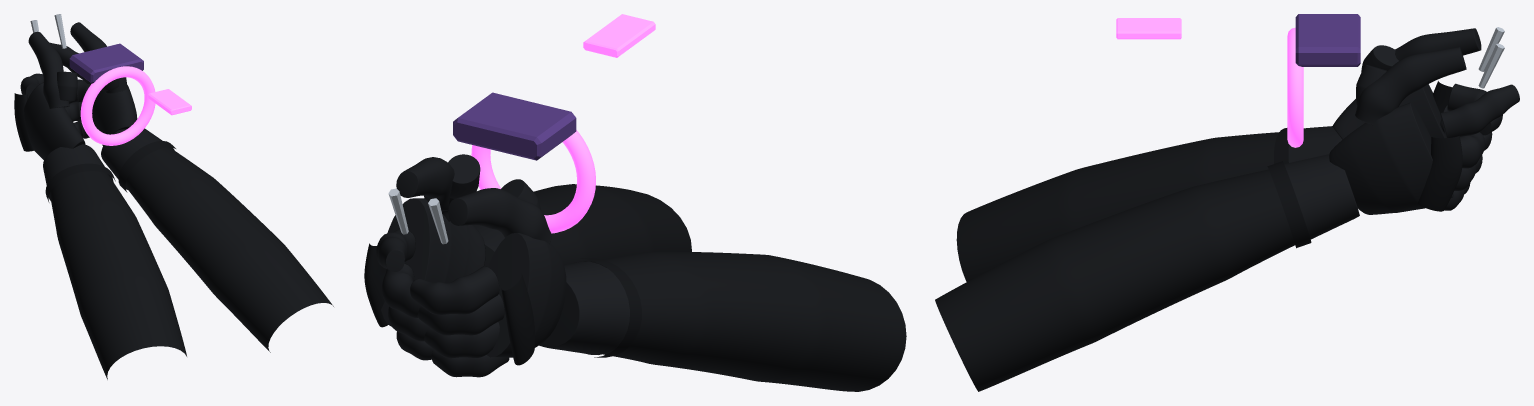
The model's file is hands_tempest_pistol.glb.
The picture shows the model from 3 angles, left to right: view 1: azimuth 30°, elevation 25°; view 2: azimuth 150°, elevation 25°; view 3: azimuth 270°, elevation 25°; orthographic projection. The views are drawn at different scales.
Parts seen in each view (by area): view 1: hand_r_forearm, hand_l_forearm, hand_l_palm, hand_r_cap_ring, hand_r_cuff_plate, hand_r_palm, hand_l_thumb, hand_l_cuff, hand_r_cuff, hand_r_thumb, hand_r_lamp, hand_r_cuff_strap (+5 smaller); view 2: hand_l_forearm, hand_r_forearm, hand_l_cuff, hand_r_cuff_plate, hand_l_palm, hand_r_palm, hand_l_thumb, hand_r_cap_ring, hand_l_index, hand_r_thumb, hand_l_knuckle_panel, hand_l_middle (+14 smaller); view 3: hand_r_forearm, hand_l_forearm, hand_r_palm, hand_r_cuff, hand_r_thumb, hand_r_cuff_plate, hand_r_knuckle_panel, hand_r_index, hand_l_palm, hand_r_cap_ring, hand_l_thumb, hand_r_cuff_strap (+6 smaller).
Part boxes in pixels (bbox=[...]): hand_r_forearm: bbox=[125, 147, 333, 352]; hand_l_forearm: bbox=[50, 171, 186, 379]; hand_l_palm: bbox=[24, 82, 85, 159]; hand_r_cap_ring: bbox=[80, 66, 155, 145]; hand_r_cuff_plate: bbox=[69, 43, 143, 83]; hand_r_palm: bbox=[90, 83, 137, 145]; hand_l_thumb: bbox=[28, 31, 69, 108]; hand_l_cuff: bbox=[43, 144, 113, 200]; hand_r_cuff: bbox=[101, 128, 174, 189]; hand_r_thumb: bbox=[70, 22, 127, 93]; hand_r_lamp: bbox=[148, 89, 191, 115]; hand_r_cuff_strap: bbox=[118, 141, 175, 192]; hand_l_forearm: bbox=[593, 251, 906, 391]; hand_r_forearm: bbox=[533, 184, 691, 265]; hand_l_cuff: bbox=[539, 261, 629, 354]; hand_r_cuff_plate: bbox=[453, 92, 576, 160]; hand_l_palm: bbox=[486, 233, 566, 357]; hand_r_palm: bbox=[381, 198, 485, 326]; hand_l_thumb: bbox=[448, 188, 551, 244]; hand_r_cap_ring: bbox=[471, 130, 595, 233]; hand_l_index: bbox=[410, 266, 499, 314]; hand_r_thumb: bbox=[396, 157, 454, 221]; hand_l_knuckle_panel: bbox=[501, 274, 534, 365]; hand_l_middle: bbox=[417, 294, 504, 335]; hand_r_forearm: bbox=[935, 169, 1295, 391]; hand_l_forearm: bbox=[956, 132, 1279, 281]; hand_r_palm: bbox=[1329, 102, 1453, 214]; hand_r_cuff: bbox=[1284, 154, 1359, 239]; hand_r_thumb: bbox=[1355, 47, 1466, 125]; hand_r_cuff_plate: bbox=[1295, 14, 1360, 66]; hand_r_knuckle_panel: bbox=[1418, 136, 1462, 211]; hand_r_index: bbox=[1440, 84, 1519, 137]; hand_l_palm: bbox=[1332, 84, 1446, 139]; hand_r_cap_ring: bbox=[1287, 27, 1303, 147]; hand_l_thumb: bbox=[1395, 28, 1481, 60]; hand_r_cuff_strap: bbox=[1267, 161, 1311, 248].
Bounding box in the file's own units: 0.2176 × 0.2248 × 0.3592.
